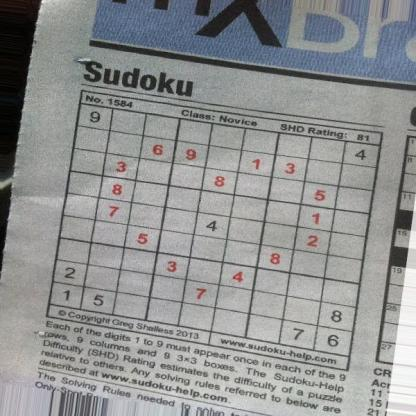sudoku: (47, 100, 383, 359)
